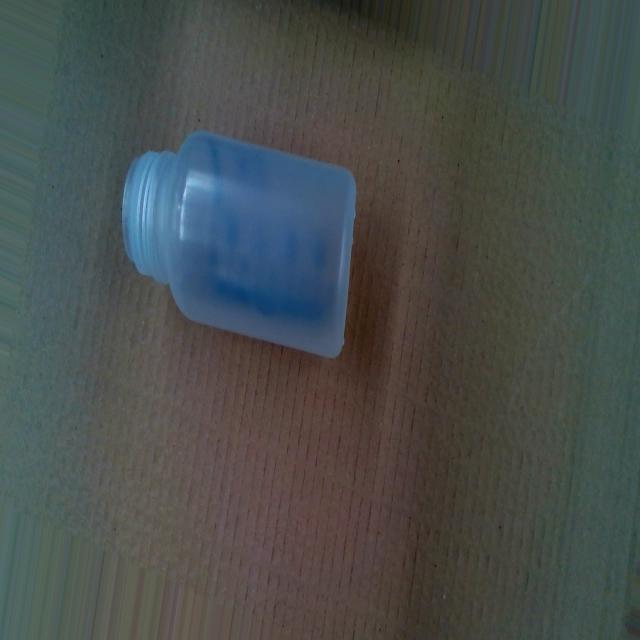bottle: (118, 117, 367, 369)
